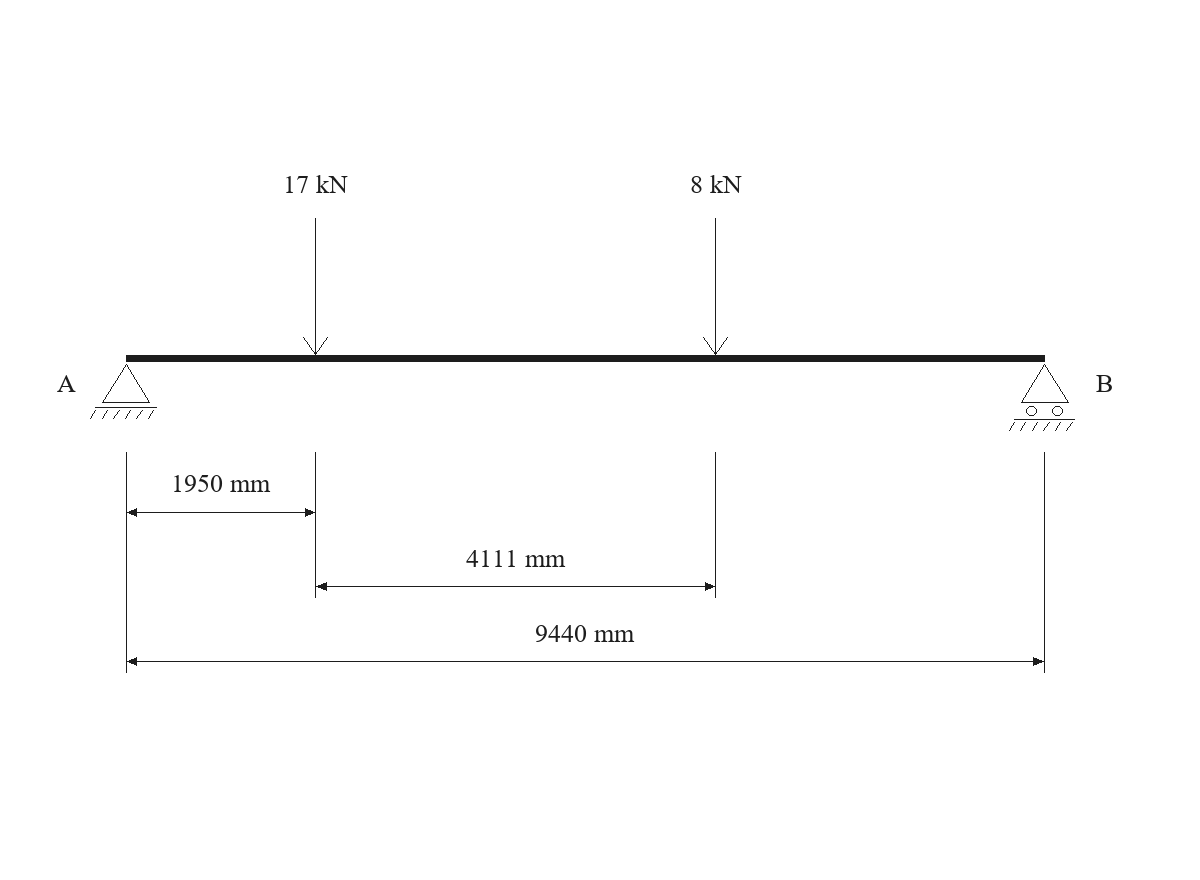pin_support: (90, 364, 157, 419)
point_load: (303, 218, 328, 355), (703, 218, 728, 355)
roller_support: (1009, 364, 1075, 431)
